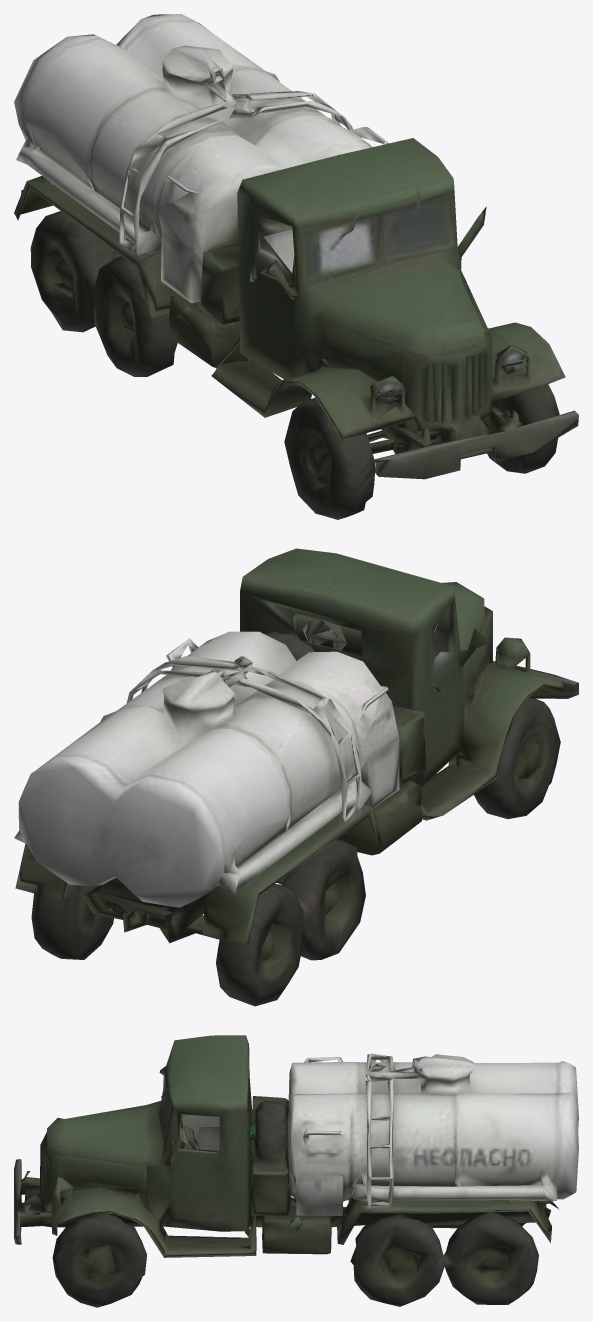
Rendered from soviet_truck.glb.
3 views of the same model, one above another, from view 1: azimuth 30°, elevation 25°; view 2: azimuth 150°, elevation 25°; view 3: azimuth 270°, elevation 25° (orthographic). The views are drawn at different scales.
Visible parts, largest first — view 1: tripo_node_789f649b-e010-4450-9314-27f0b2e36e7a; view 2: tripo_node_789f649b-e010-4450-9314-27f0b2e36e7a; view 3: tripo_node_789f649b-e010-4450-9314-27f0b2e36e7a.
Part boxes in pixels (bbox=[...]): tripo_node_789f649b-e010-4450-9314-27f0b2e36e7a: bbox=[14, 14, 578, 519]; tripo_node_789f649b-e010-4450-9314-27f0b2e36e7a: bbox=[14, 548, 578, 1006]; tripo_node_789f649b-e010-4450-9314-27f0b2e36e7a: bbox=[14, 1035, 578, 1307].
Bounding box in the file's own units: 0.3575 × 0.4048 × 0.9774.
Materials: 1 (1 with a texture image).
